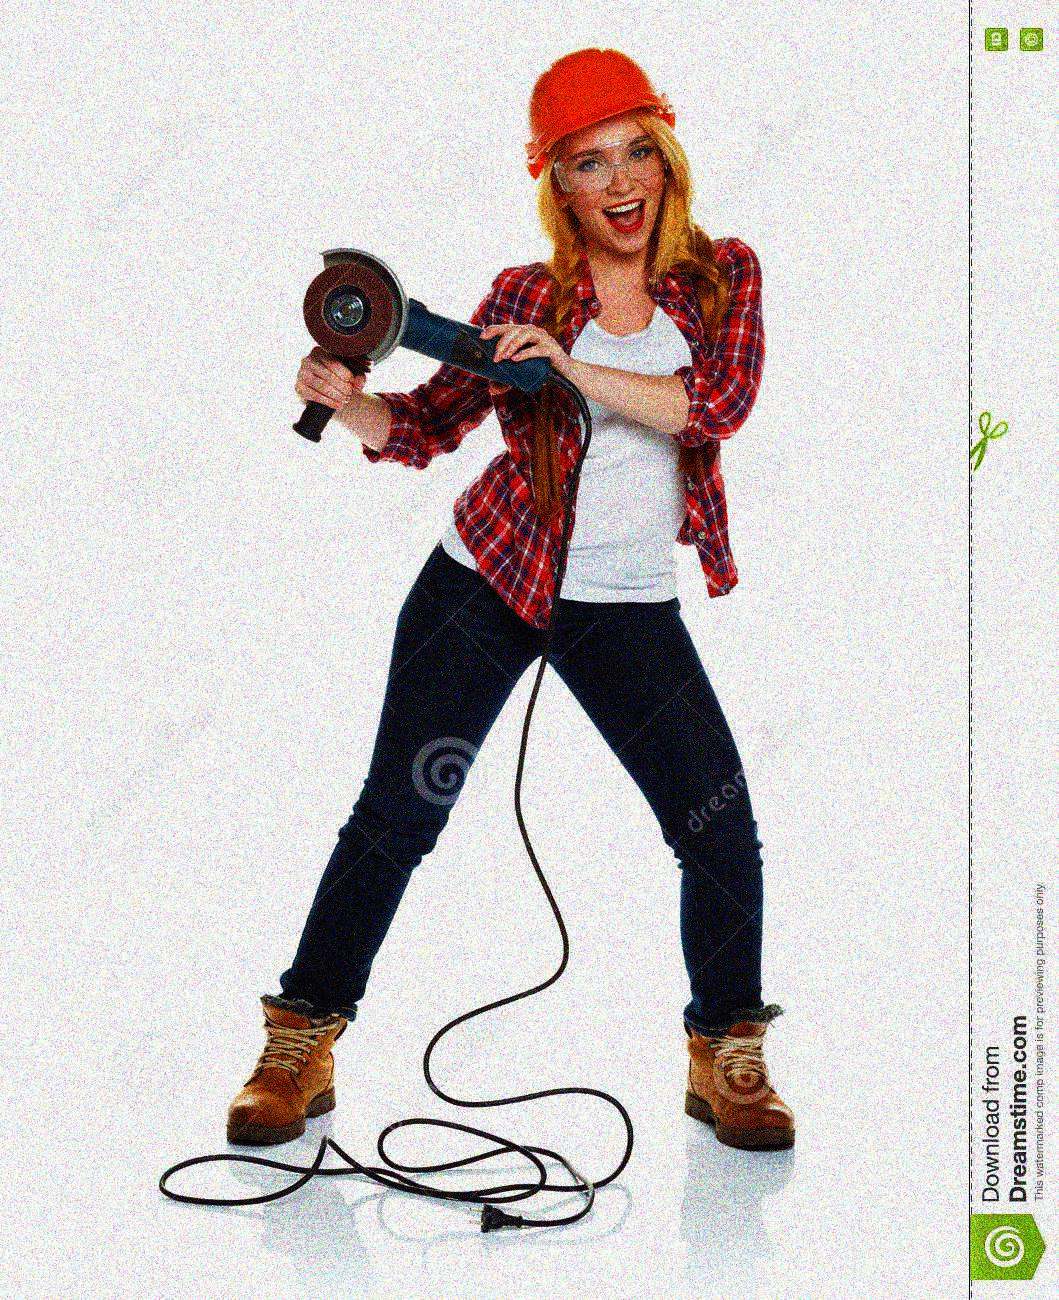helmet: (519, 44, 684, 253)
